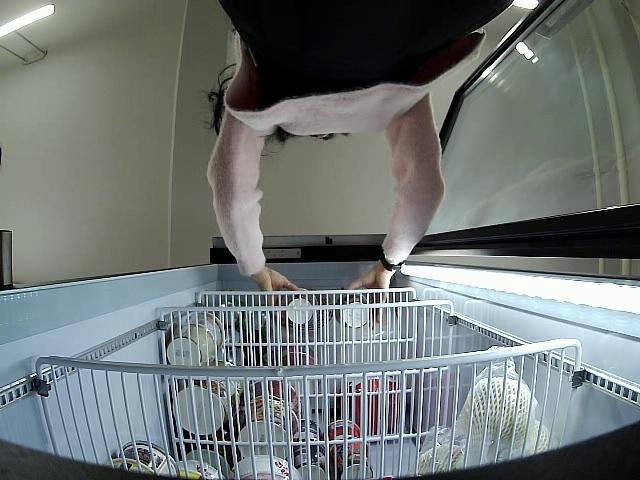00_hand: (344, 271, 390, 325), (263, 268, 307, 306)
